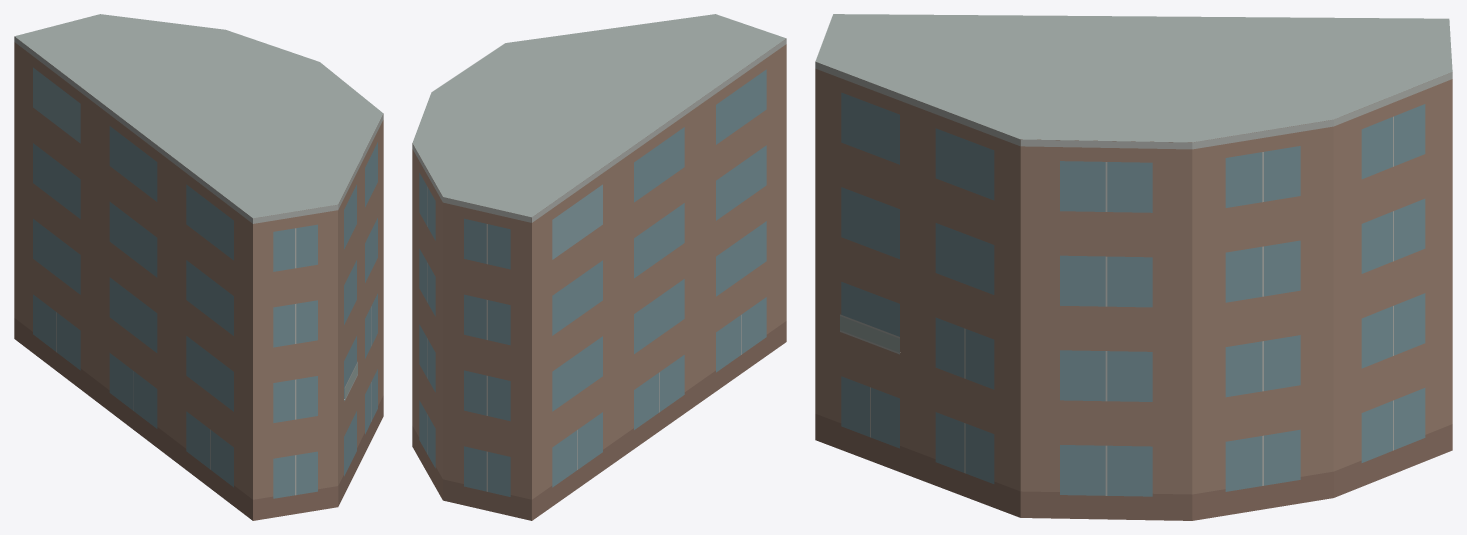
The model's file is survey-upis-32758115.glb.
The picture shows the model from 3 angles, left to right: view 1: azimuth 30°, elevation 25°; view 2: azimuth 150°, elevation 25°; view 3: azimuth 270°, elevation 25°; orthographic projection. The views are drawn at different scales.
Parts seen in each view (by area): view 1: survey-upis-32758115.tmp; view 2: survey-upis-32758115.tmp; view 3: survey-upis-32758115.tmp.
Boxes of the visible parts, x1,y1,x2,y2 form: survey-upis-32758115.tmp: [14, 14, 383, 520]; survey-upis-32758115.tmp: [412, 14, 786, 520]; survey-upis-32758115.tmp: [815, 14, 1452, 520].
Size of the model in its own units: 9.63 by 13.22 by 20.19.
